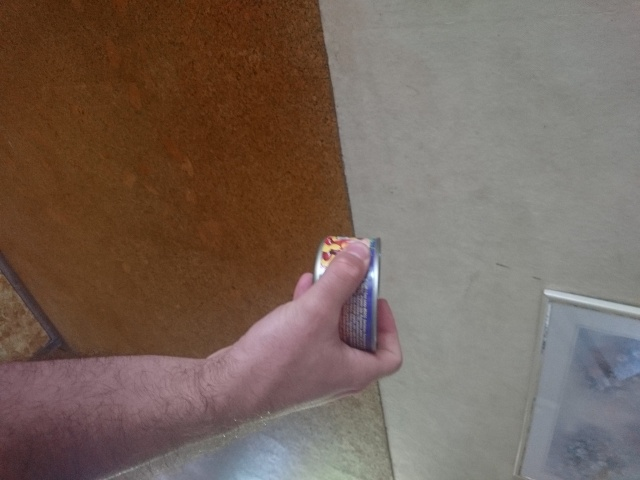Giana Tuna Salad Mexico 185g: (309, 232, 383, 359)
